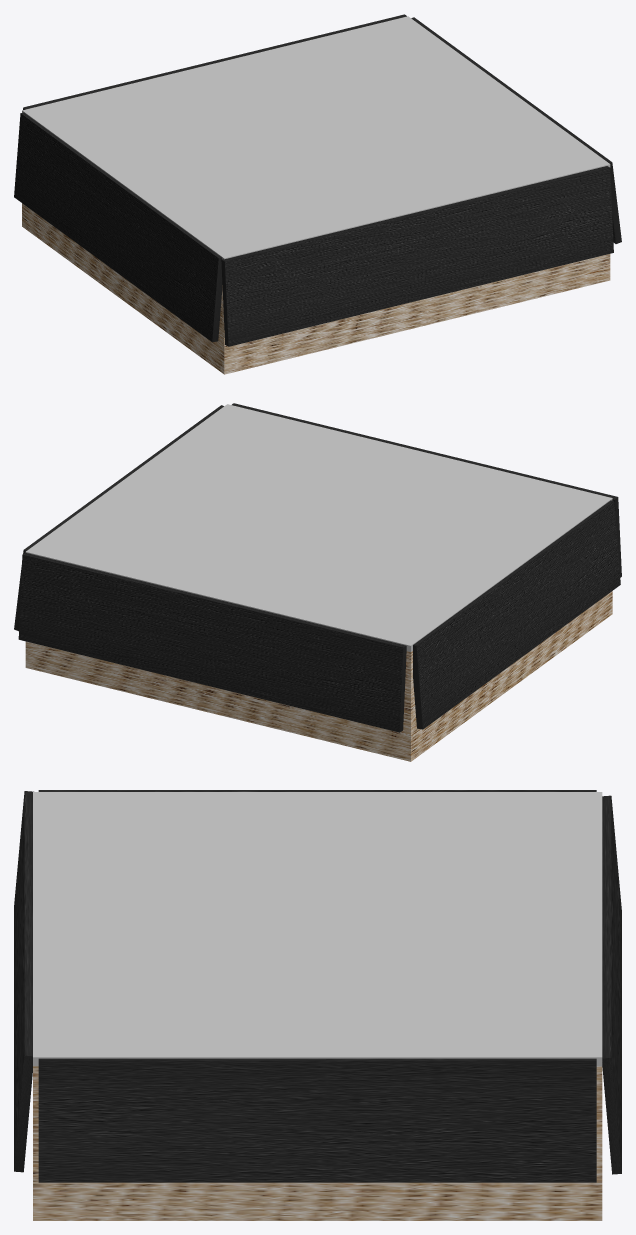
File: foundation4.fbx
3 views of the same model, one above another, from view 1: azimuth 30°, elevation 25°; view 2: azimuth 150°, elevation 25°; view 3: azimuth 270°, elevation 25° (orthographic). The views are drawn at different scales.
Parts seen in each view (by area): view 1: Cube.001, Cube.003, Cube.002, Cube, Cube.005, Cube.004; view 2: Cube.001, Cube.004, Cube.002, Cube, Cube.003, Cube.005; view 3: Cube.001, Cube.005, Cube, Cube.004, Cube.003, Cube.002.
Boxes of the visible parts, x1,y1,x2,y2 form: Cube.001: (22,16,610,259); Cube.003: (221,166,613,346); Cube.002: (14,112,222,342); Cube: (22,203,610,374); Cube.005: (411,17,621,243); Cube.004: (23,14,406,109); Cube.001: (25,404,612,651); Cube.004: (18,553,406,732); Cube.002: (413,500,620,729); Cube: (25,591,612,761); Cube.003: (232,403,621,577); Cube.005: (14,405,223,631); Cube.001: (33,792,602,1066); Cube.005: (38,1058,596,1182); Cube: (33,1066,602,1220); Cube.004: (602,795,621,1174); Cube.003: (14,791,33,1172); Cube.002: (38,790,596,791).
Bounding box in the file's own units: 781 × 212 × 713.
